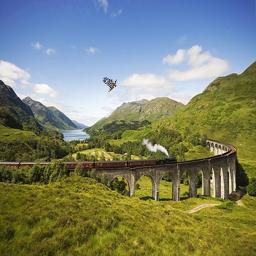Woodpecker: (103, 76, 118, 92)
